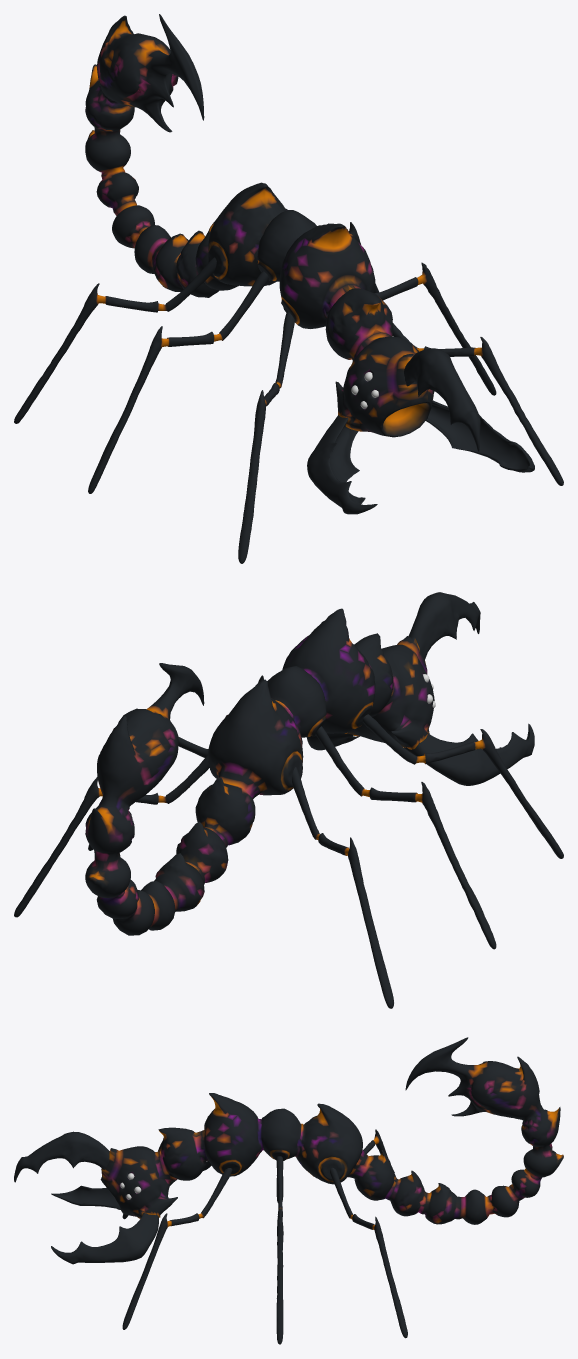
File: Grunt_body_scales_fixed_LP.fbx
The picture shows the model from 3 angles, top to bottom: view 1: azimuth 30°, elevation 25°; view 2: azimuth 150°, elevation 25°; view 3: azimuth 270°, elevation 25°; orthographic projection. The views are drawn at different scales.
Parts seen in each view (by area): view 1: Grunt_body; view 2: Grunt_body; view 3: Grunt_body.
Boxes of the visible parts, bbox=[...] form: Grunt_body: bbox=[14, 14, 563, 563]; Grunt_body: bbox=[14, 592, 563, 1008]; Grunt_body: bbox=[14, 1037, 563, 1344].
Bounding box in the file's own units: 151 × 118 × 249.
